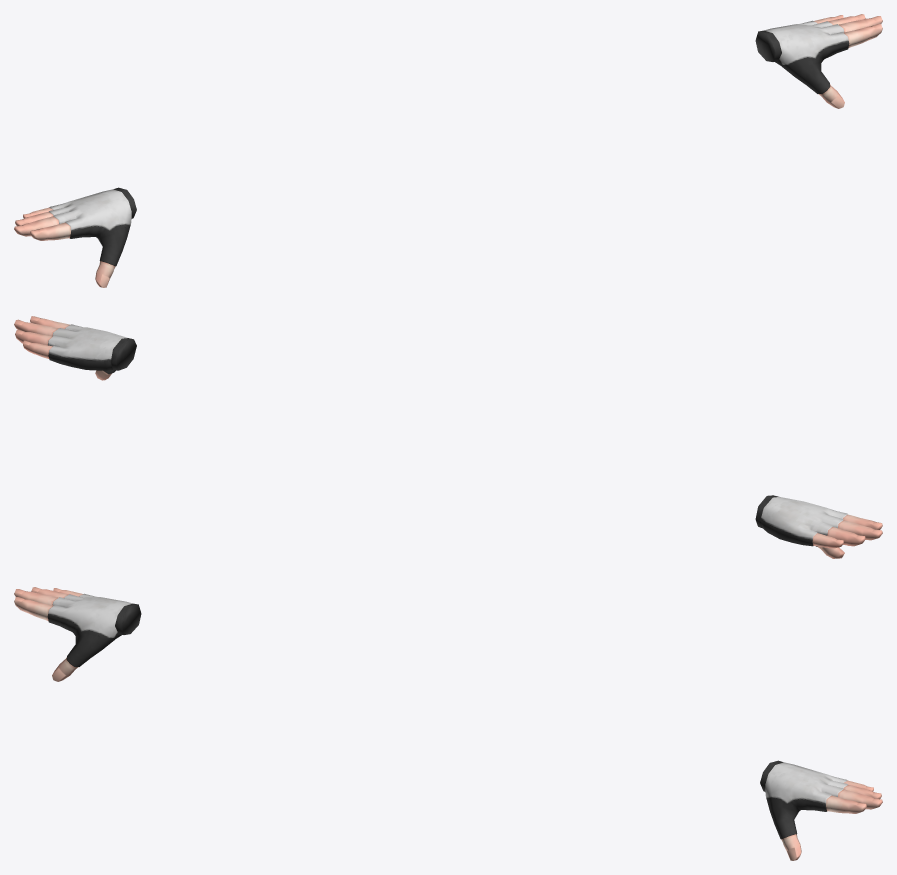
File: p0_glv0002_00_glv00.gltf
3 views of the same model, one above another, from view 1: azimuth 30°, elevation 25°; view 2: azimuth 150°, elevation 25°; view 3: azimuth 330°, elevation 25° (orthographic).
Parts seen in each view (by area): view 1: glv00_glove_mesh_shape:glove, glv00_glove_mesh_shape:glove_skin; view 2: glv00_glove_mesh_shape:glove, glv00_glove_mesh_shape:glove_skin; view 3: glv00_glove_mesh_shape:glove, glv00_glove_mesh_shape:glove_skin.
Part boxes in pixels (box(x1,y1,x2,y2)): glv00_glove_mesh_shape:glove: box(49, 20, 849, 266); glv00_glove_mesh_shape:glove_skin: box(14, 14, 882, 287); glv00_glove_mesh_shape:glove: box(48, 324, 847, 546); glv00_glove_mesh_shape:glove_skin: box(14, 316, 882, 558); glv00_glove_mesh_shape:glove: box(47, 593, 847, 839); glv00_glove_mesh_shape:glove_skin: box(14, 587, 882, 860).
Size of what is drawn, in the model's own units: 1.36 by 0.1028 by 0.1178.
2 materials, 2 textured.
